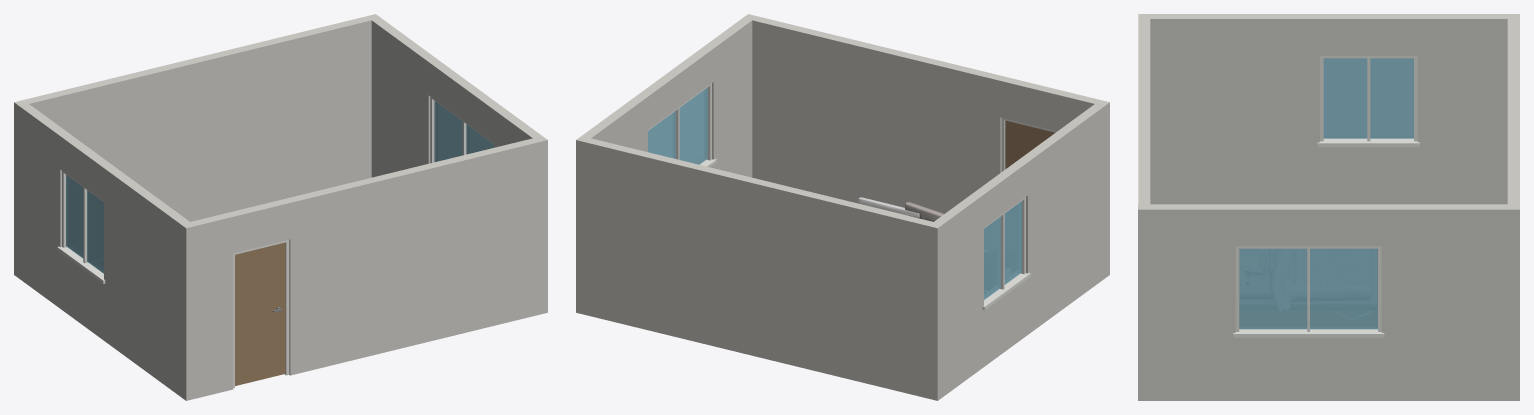
File: instructscene.glb
3 views of the same model, side by side, from view 1: azimuth 30°, elevation 25°; view 2: azimuth 150°, elevation 25°; view 3: azimuth 270°, elevation 25° (orthographic). The views are drawn at different scales.
Visible parts, largest first — view 1: wall|scenesmith_022__R00|0, wall|scenesmith_022__R00|1, wall|scenesmith_022__R00|2, wall|scenesmith_022__R00|3, wall|scenesmith_022__R00|0 Door 0 | wood leaf, wall|scenesmith_022__R00|2 Window 0 | glazing, wall|scenesmith_022__R00|3 Window 0 | glazing, wall|scenesmith_022__R00|2 Window 0 | jamb, wall|scenesmith_022__R00|0 Door 0 | jamb, wall|scenesmith_022__R00|3 Window 0 | jamb; view 2: wall|scenesmith_022__R00|1, wall|scenesmith_022__R00|0, wall|scenesmith_022__R00|2, wall|scenesmith_022__R00|3, wall|scenesmith_022__R00|3 Window 0 | glazing, wall|scenesmith_022__R00|2 Window 0 | glazing, wall|scenesmith_022__R00|0 Door 0 | wood leaf, wall|scenesmith_022__R00|2 Window 0 | jamb, wall|scenesmith_022__R00|3 Window 0 | jamb, raw_model.002; view 3: wall|scenesmith_022__R00|2, wall|scenesmith_022__R00|3, wall|scenesmith_022__R00|3 Window 0 | glazing, wall|scenesmith_022__R00|2 Window 0 | glazing, wall|scenesmith_022__R00|0, wall|scenesmith_022__R00|1, wall|scenesmith_022__R00|3 Window 0 | jamb, wall|scenesmith_022__R00|2 Window 0 | jamb.
Boxes of the visible parts, bbox=[...] form: wall|scenesmith_022__R00|0: bbox=[180, 136, 547, 400]; wall|scenesmith_022__R00|1: bbox=[14, 16, 371, 278]; wall|scenesmith_022__R00|2: bbox=[19, 104, 189, 396]; wall|scenesmith_022__R00|3: bbox=[366, 14, 547, 314]; wall|scenesmith_022__R00|0 Door 0 | wood leaf: bbox=[235, 242, 285, 385]; wall|scenesmith_022__R00|2 Window 0 | glazing: bbox=[66, 175, 103, 273]; wall|scenesmith_022__R00|3 Window 0 | glazing: bbox=[434, 101, 494, 162]; wall|scenesmith_022__R00|2 Window 0 | jamb: bbox=[57, 171, 105, 283]; wall|scenesmith_022__R00|0 Door 0 | jamb: bbox=[233, 240, 289, 388]; wall|scenesmith_022__R00|3 Window 0 | jamb: bbox=[430, 96, 494, 163]; wall|scenesmith_022__R00|1: bbox=[576, 138, 943, 400]; wall|scenesmith_022__R00|0: bbox=[743, 14, 1109, 278]; wall|scenesmith_022__R00|2: bbox=[928, 104, 1104, 396]; wall|scenesmith_022__R00|3: bbox=[576, 18, 752, 177]; wall|scenesmith_022__R00|3 Window 0 | glazing: bbox=[648, 87, 707, 164]; wall|scenesmith_022__R00|2 Window 0 | glazing: bbox=[984, 201, 1021, 299]; wall|scenesmith_022__R00|0 Door 0 | wood leaf: bbox=[1005, 120, 1055, 169]; wall|scenesmith_022__R00|2 Window 0 | jamb: bbox=[982, 197, 1030, 310]; wall|scenesmith_022__R00|3 Window 0 | jamb: bbox=[648, 83, 716, 167]; raw_model.002: bbox=[858, 197, 943, 221]; wall|scenesmith_022__R00|2: bbox=[1150, 14, 1517, 204]; wall|scenesmith_022__R00|3: bbox=[1138, 204, 1519, 400]; wall|scenesmith_022__R00|3 Window 0 | glazing: bbox=[1239, 248, 1377, 329]; wall|scenesmith_022__R00|2 Window 0 | glazing: bbox=[1323, 58, 1413, 138]; wall|scenesmith_022__R00|0: bbox=[1138, 14, 1150, 400]; wall|scenesmith_022__R00|1: bbox=[1507, 14, 1519, 400]; wall|scenesmith_022__R00|3 Window 0 | jamb: bbox=[1233, 246, 1384, 337]; wall|scenesmith_022__R00|2 Window 0 | jamb: bbox=[1317, 56, 1419, 147].
Bounding box in the file's own units: 5.76 × 2.61 × 4.7.
Materials: 8 (2 with a texture image).
